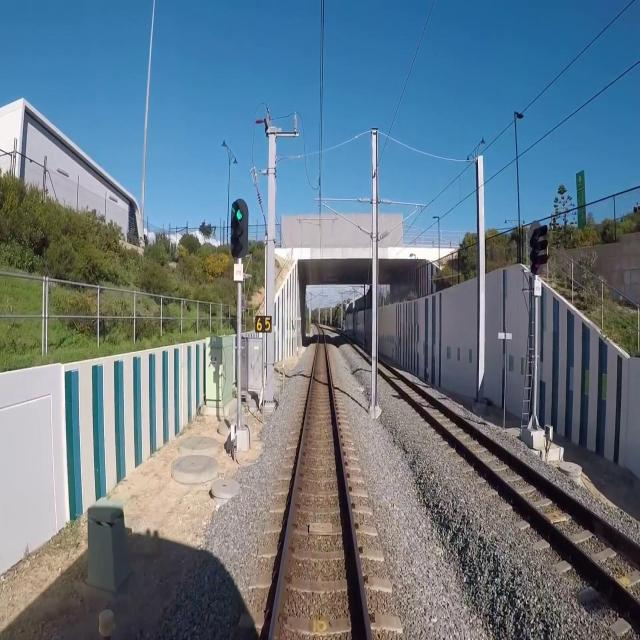rail-track: (377, 360, 640, 597), (273, 330, 366, 639)
